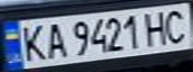1: (121, 11, 142, 51)
2: (103, 14, 127, 53)
4: (87, 16, 109, 55)
9: (66, 17, 90, 57)
A: (42, 20, 69, 60)
C: (160, 6, 193, 44)
H: (139, 8, 172, 46)
K: (15, 21, 48, 63)
